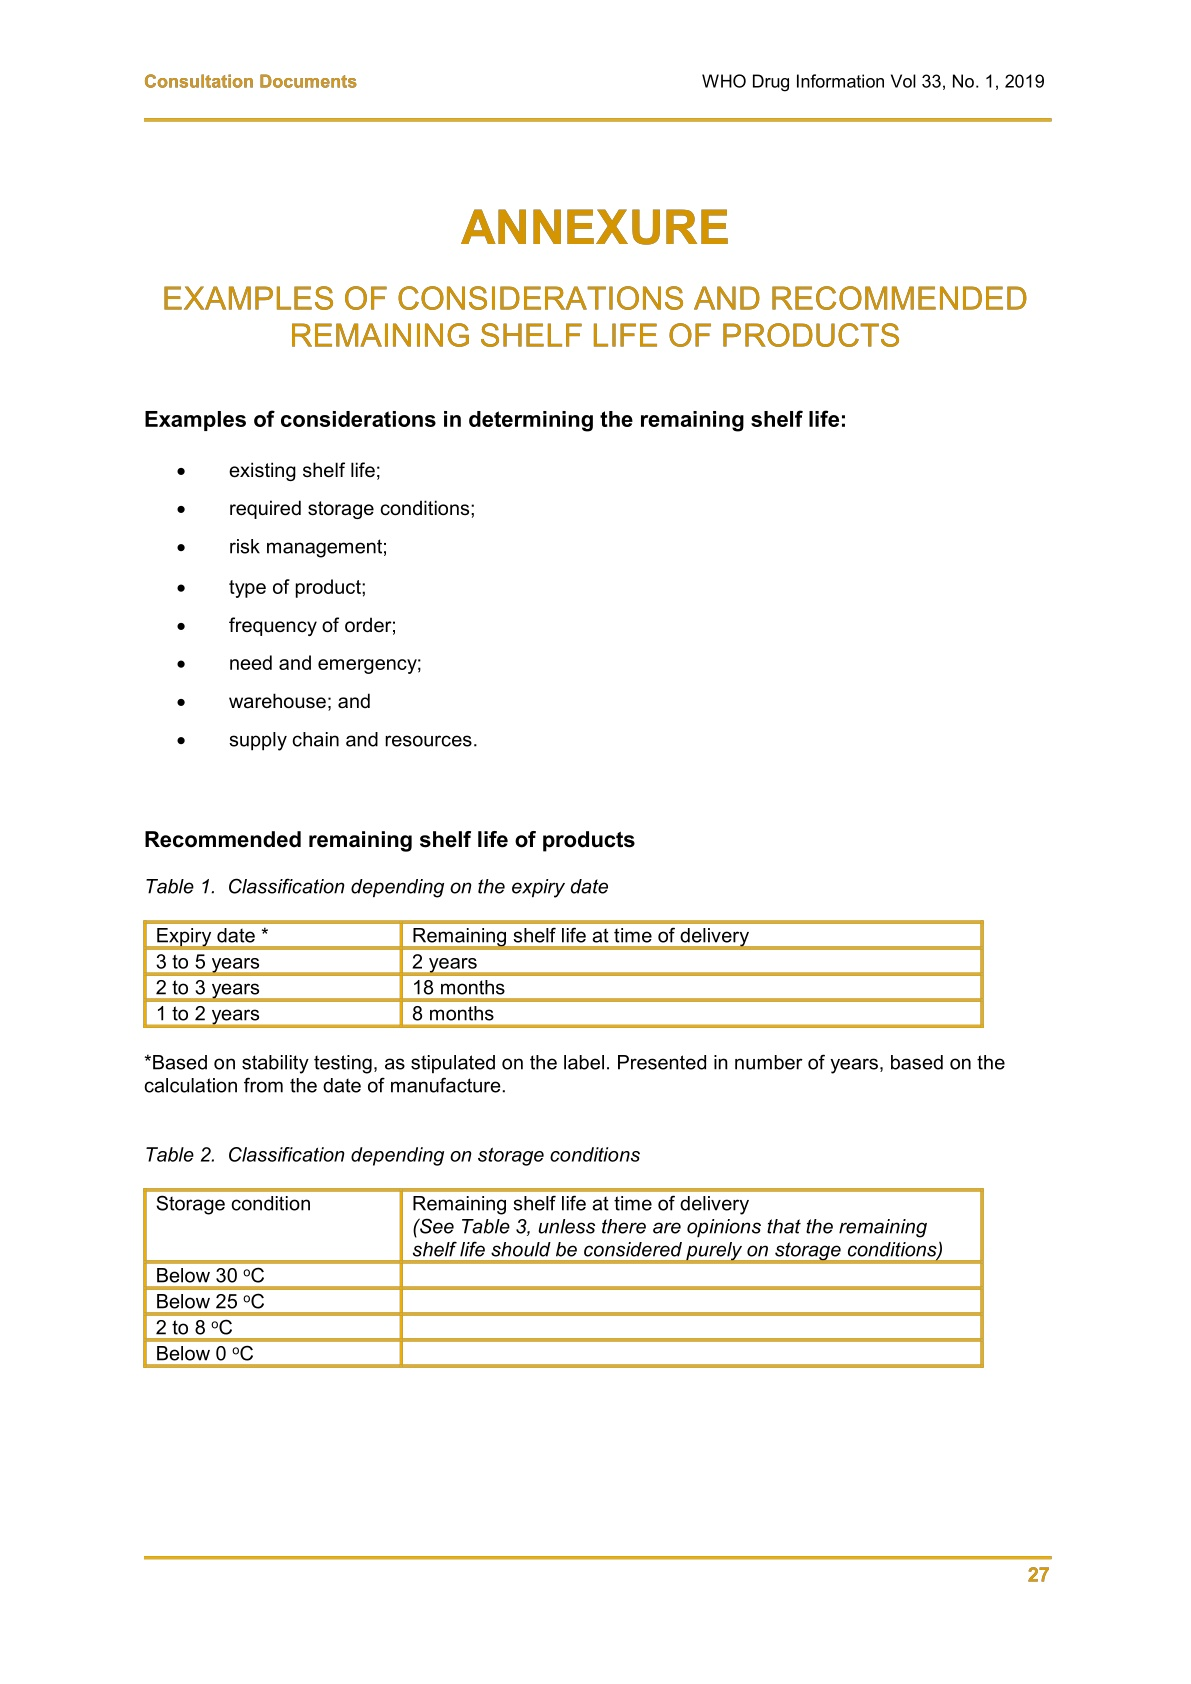full_lined: (143, 1188, 983, 1368), (143, 920, 983, 1028)
